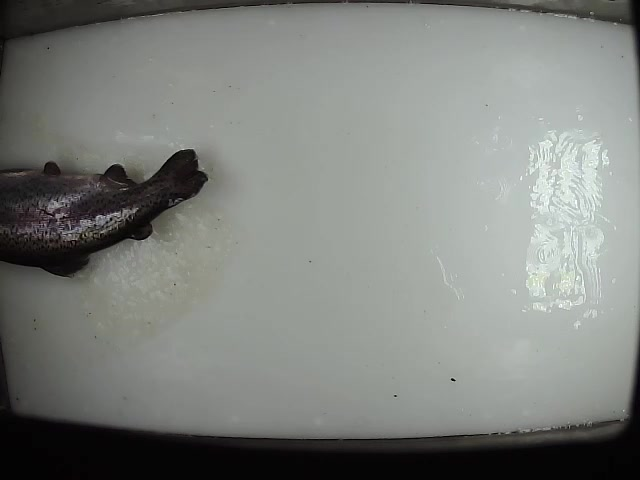fish: (1, 145, 211, 283)
